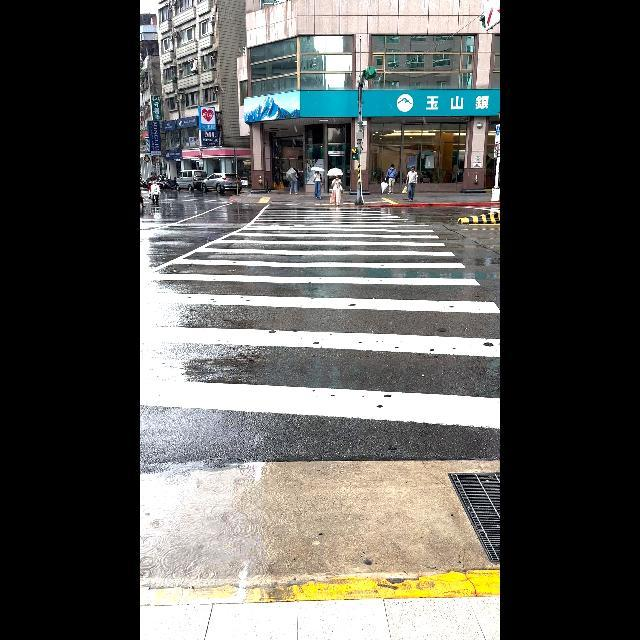sidewalk: (140, 201, 500, 476)
